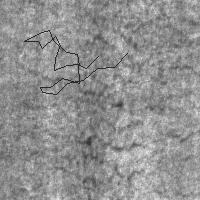crazing: (24, 30, 127, 94), (85, 12, 193, 70), (62, 134, 142, 184), (20, 68, 112, 111)
